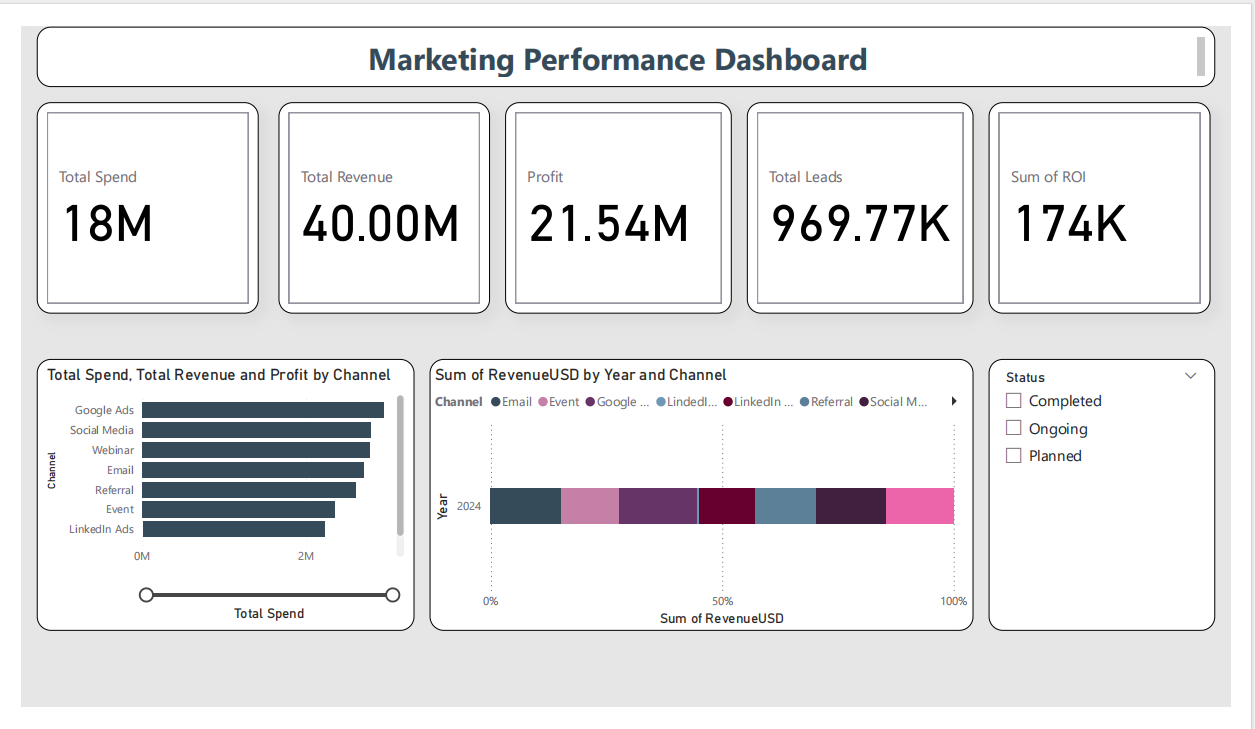

What the dashboard file says about the page in this screenshot:
{"tool":"powerbi","page":{"name":"Page 1","canvas":[1280,720],"ordinal":0},"visuals":[{"type":"clusteredBarChart","fields":{"Category":["Sheet1.Channel"],"Y":["Sheet1.Total Spend"]},"box":[16,352,400,288],"z":0},{"type":"hundredPercentStackedBarChart","fields":{"Category":["Sheet1.StartDate.Variation.Date Hierarchy.Year","Sheet1.StartDate.Variation.Date Hierarchy.Quarter","Sheet1.StartDate.Variation.Date Hierarchy.Month","Sheet1.StartDate.Variation.Date Hierarchy.Day"],"Y":["Sum(Sheet1.RevenueUSD)"],"Series":["Sheet1.Channel"]},"box":[432,352,576,288],"z":1000},{"type":"slicer","fields":{"Values":["Sheet1.Status"]},"box":[1024,352,240,288],"z":2000},{"type":"cardVisual","fields":{"Data":["Sheet1.Total Spend","Sheet1.Total Spend"]},"box":[16,80,235,224],"z":3000},{"type":"cardVisual","fields":{"Data":["Sheet1.Total Revenue"]},"box":[272,80,224,224],"z":4000},{"type":"cardVisual","fields":{"Data":["Sheet1.Profit"]},"box":[512,80,240,224],"z":5000},{"type":"cardVisual","fields":{"Data":["Sheet1.Total Leads"]},"box":[768,80,240,224],"z":6000},{"type":"cardVisual","fields":{"Data":["Sum(Sheet1.ROI)"]},"box":[1024,80,235,224],"z":7000},{"type":"textbox","box":[16,0,1248,64],"z":8000}]}

Visuals, with their boxes in screenshot pixels (x1, y1, x2, y2):
clusteredBarChart - Sheet1.Channel x Sheet1.Total Spend: (x1=41, y1=354, x2=414, y2=623)
hundredPercentStackedBarChart - Sheet1.StartDate.Variation.Date Hierarchy.Year x Sheet1.StartDate.Variation.Date Hierarchy.Quarter: (x1=429, y1=354, x2=966, y2=623)
slicer - Sheet1.Status: (x1=981, y1=354, x2=1205, y2=623)
cardVisual - Sheet1.Total Spend x Sheet1.Total Spend: (x1=41, y1=101, x2=260, y2=310)
cardVisual - Sheet1.Total Revenue: (x1=280, y1=101, x2=489, y2=310)
cardVisual - Sheet1.Profit: (x1=504, y1=101, x2=727, y2=310)
cardVisual - Sheet1.Total Leads: (x1=742, y1=101, x2=966, y2=310)
cardVisual - Sum(Sheet1.ROI): (x1=981, y1=101, x2=1200, y2=310)
textbox: (x1=41, y1=26, x2=1205, y2=86)
